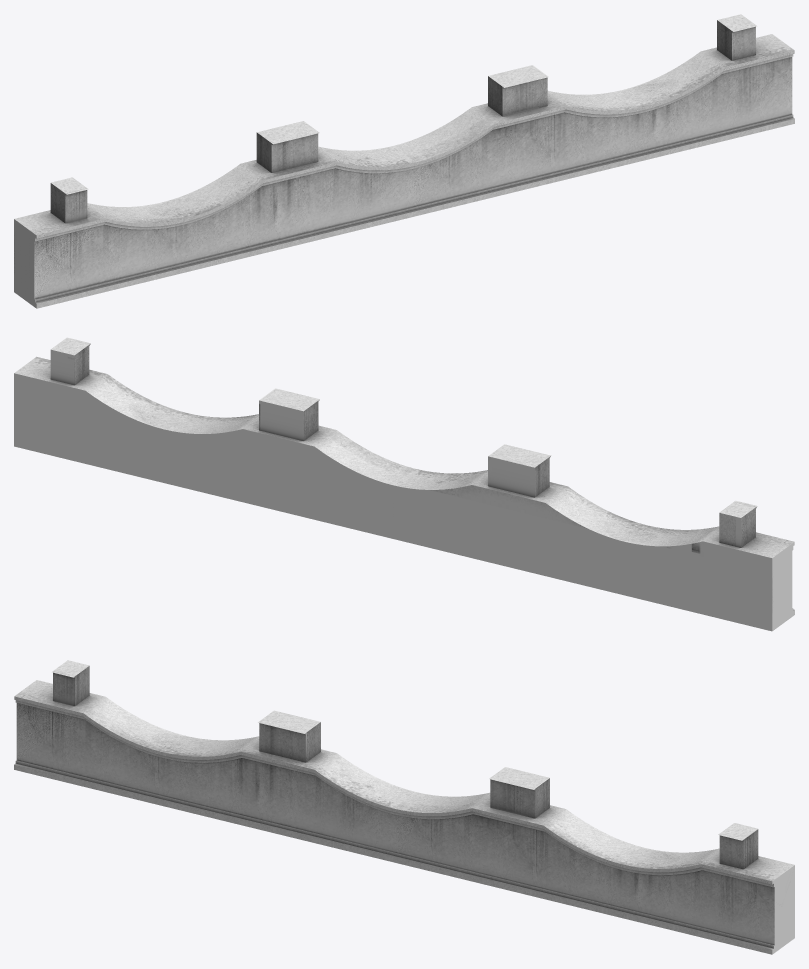
The model's file is roof_4.glb.
3 renders of one model, top to bottom at view 1: azimuth 30°, elevation 25°; view 2: azimuth 150°, elevation 25°; view 3: azimuth 330°, elevation 25°, orthographic.
Parts seen in each view (by area): view 1: roof_4; view 2: roof_4; view 3: roof_4.
Part boxes in pixels (x1,y1,x2,y2): roof_4: (14,14,794,308); roof_4: (14,337,794,631); roof_4: (14,660,794,954).
Size of the model in its own units: 6.5 by 0.8453 by 0.3374.
1 material, 1 textured.
